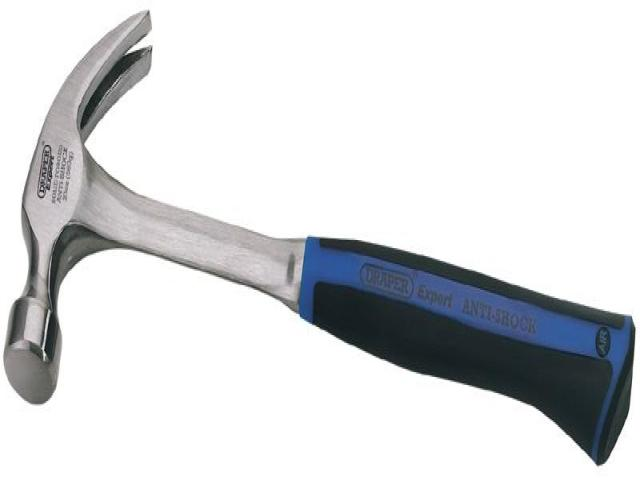hammer: (3, 6, 635, 466)
